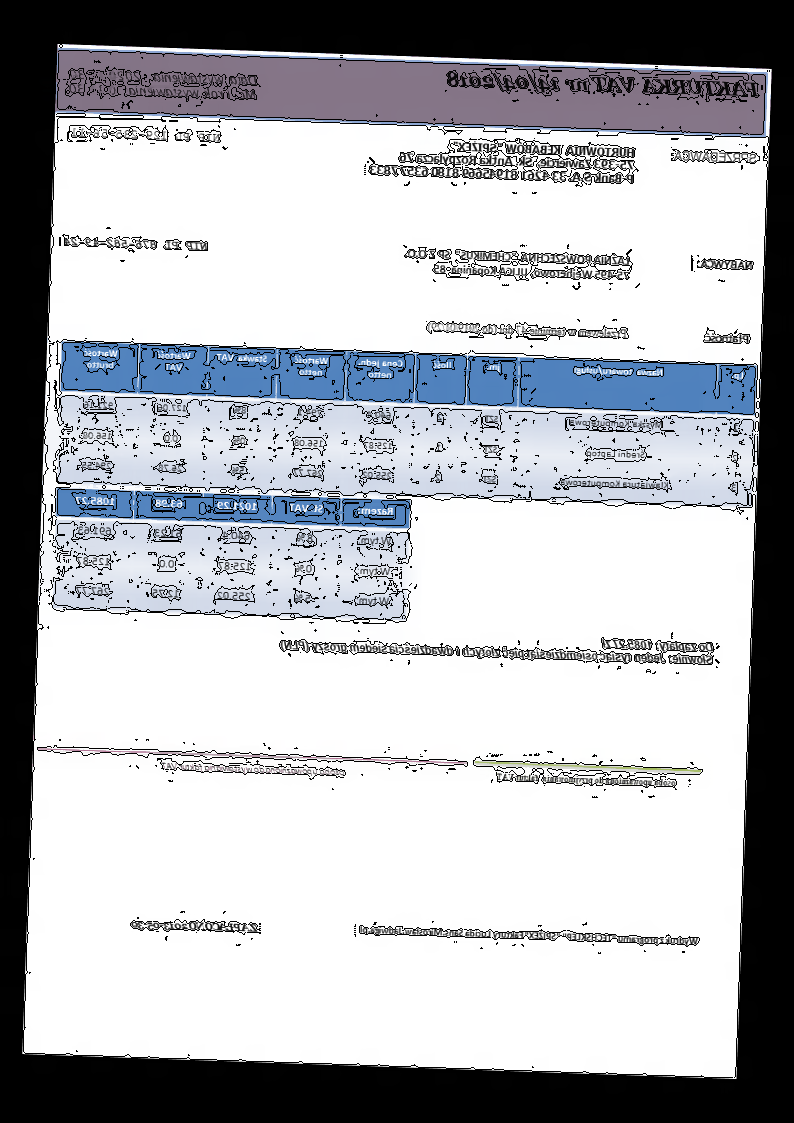Table: (55, 339, 760, 507), (52, 487, 413, 622)
TextBox: (278, 624, 717, 670), (368, 137, 637, 188), (442, 66, 762, 105), (357, 922, 702, 949), (402, 246, 634, 283), (64, 66, 261, 103), (425, 319, 629, 341), (494, 770, 681, 791), (160, 759, 348, 778), (63, 233, 211, 255), (69, 125, 224, 146), (128, 916, 261, 937), (669, 146, 760, 166), (696, 256, 757, 272), (701, 330, 754, 347)
